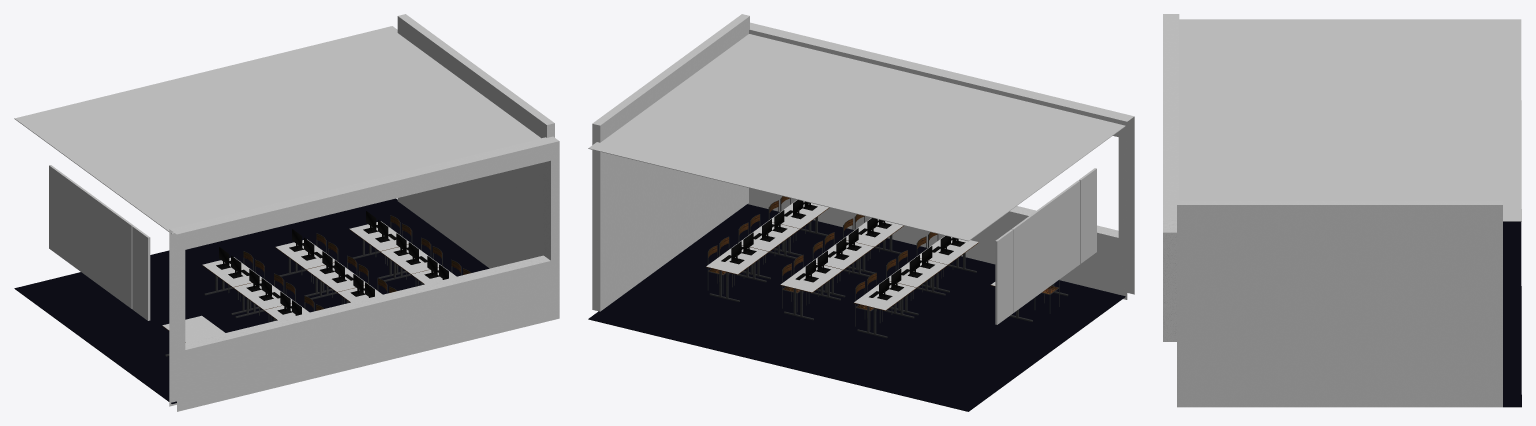
Rendered from salle_classe_haut02.obj.
3 views of the same model, side by side, from view 1: azimuth 30°, elevation 25°; view 2: azimuth 150°, elevation 25°; view 3: azimuth 270°, elevation 25° (orthographic). The views are drawn at different scales.
Parts seen in each view (by area): view 1: mur_couloir.033; view 2: mur_couloir.033; view 3: mur_couloir.033.
Part boxes in pixels (left/top/right/bottom): mur_couloir.033: left=14, top=14, right=559, bottom=411; mur_couloir.033: left=588, top=14, right=1134, bottom=411; mur_couloir.033: left=1163, top=14, right=1521, bottom=407.
Bounding box in the file's own units: 24.2 × 11.44 × 17.89.
Materials: 6 (3 with a texture image).
